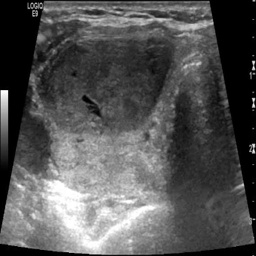mass: (38, 37, 175, 136)
